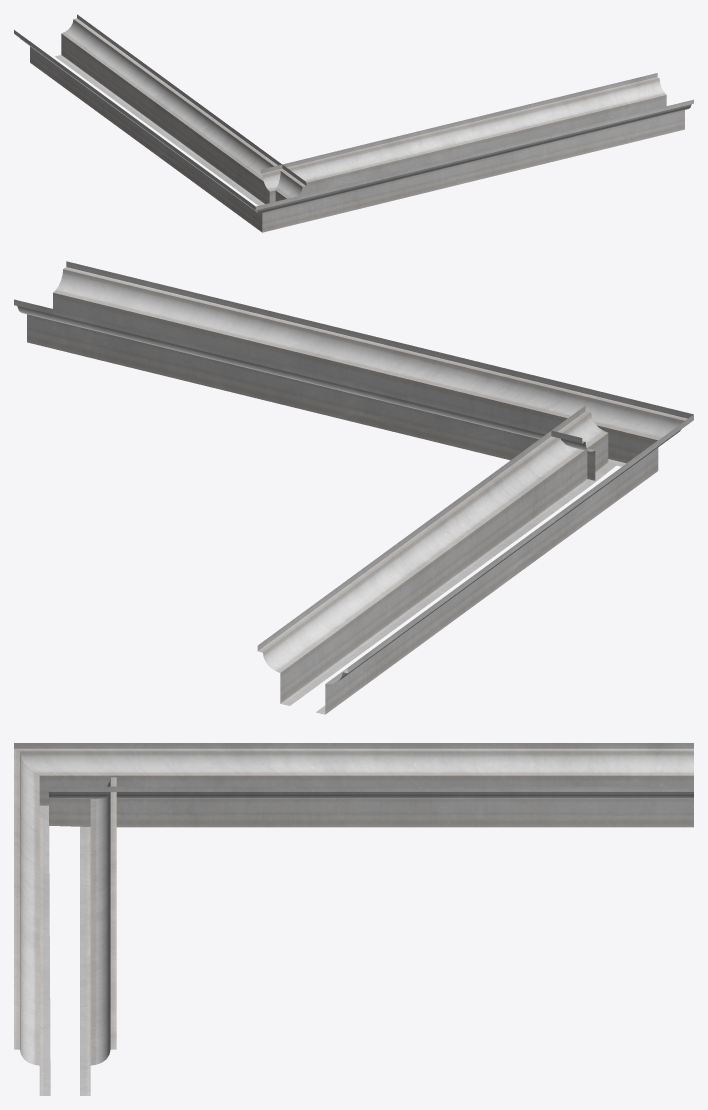
Rendered from Plinths_02.fbx.
3 renders of one model, top to bottom at view 1: azimuth 30°, elevation 25°; view 2: azimuth 150°, elevation 25°; view 3: azimuth 270°, elevation 25°, orthographic. The views are drawn at different scales.
Visible parts, largest first — view 1: Inner_Wall_Angle_01.001; view 2: Inner_Wall_Angle_01.001; view 3: Inner_Wall_Angle_01.001.
Boxes of the visible parts, x1,y1,x2,y2 form: Inner_Wall_Angle_01.001: [14, 14, 693, 232]; Inner_Wall_Angle_01.001: [14, 261, 693, 714]; Inner_Wall_Angle_01.001: [14, 743, 693, 1095].
Bounding box in the file's own units: 221 × 17.69 × 211.
